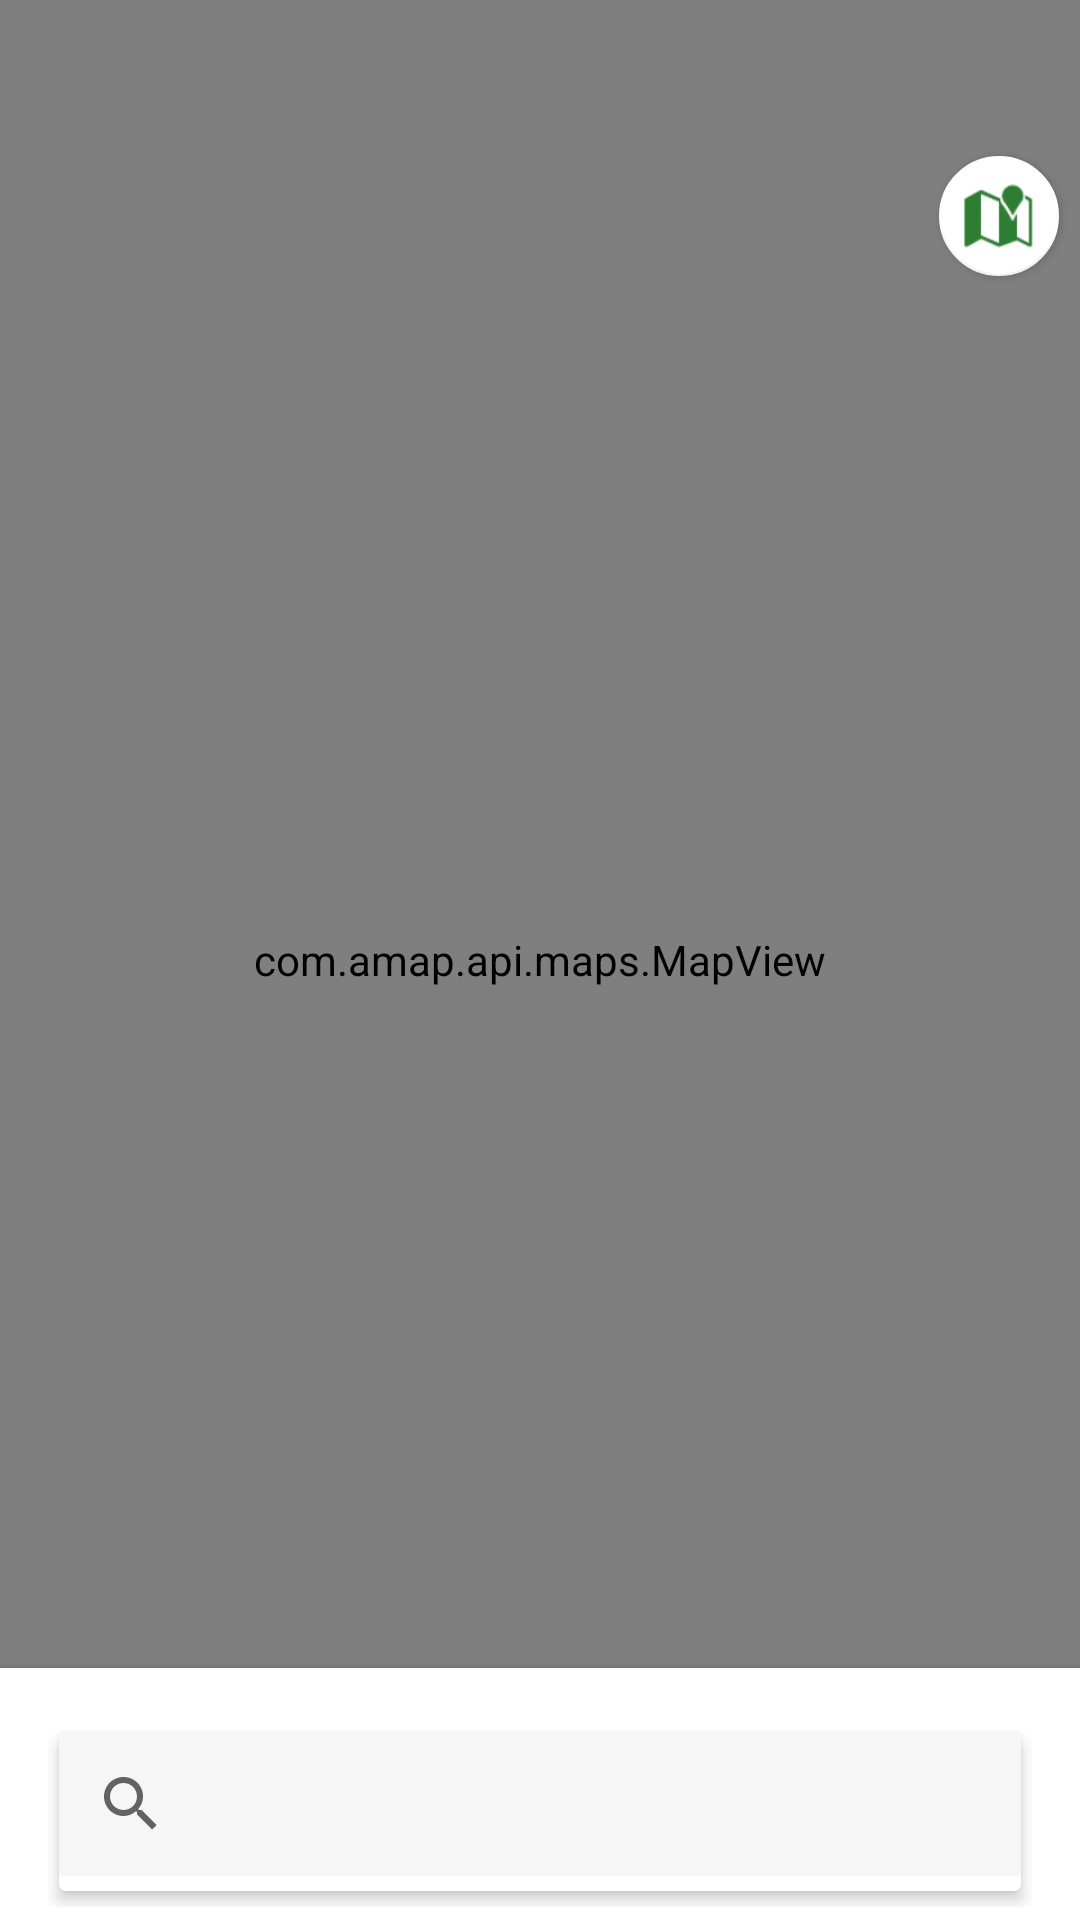

Locate icon controls on the screen. Image size 1080px x 1920px, boxes as rect(x1, y1, x2, y2).
按下这个按钮来切换地图: rect(939, 156, 1059, 276)
